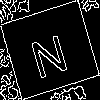N: (25, 24, 71, 80)
